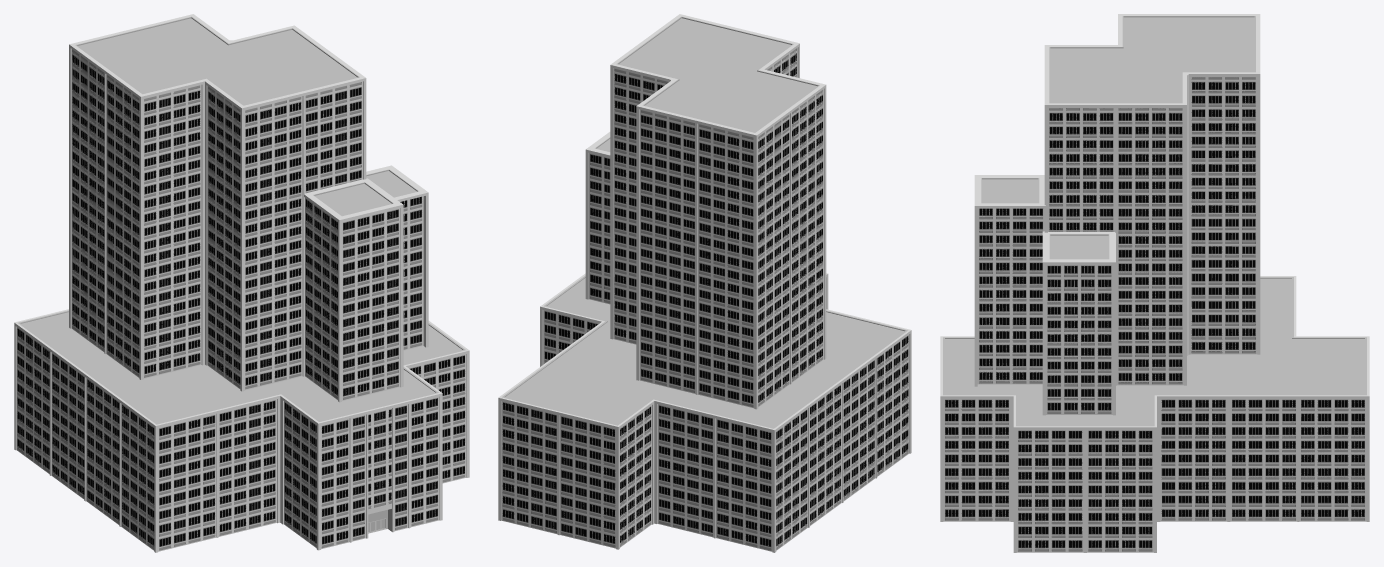
File: large_low_poly_building.fbx
3 views of the same model, side by side, from view 1: azimuth 30°, elevation 25°; view 2: azimuth 150°, elevation 25°; view 3: azimuth 270°, elevation 25° (orthographic). The views are drawn at different scales.
Visible parts, largest first — view 1: Material2 (×3); view 2: Material2 (×3); view 3: Material2 (×3).
Part boxes in pixels (x1,y1,x2,y2): Material2 (×3): (14, 14, 469, 552); Material2 (×3): (498, 14, 911, 552); Material2 (×3): (940, 14, 1369, 552).
Size of the model in its own units: 2560 by 3200 by 3070.
4 materials, 2 textured.
